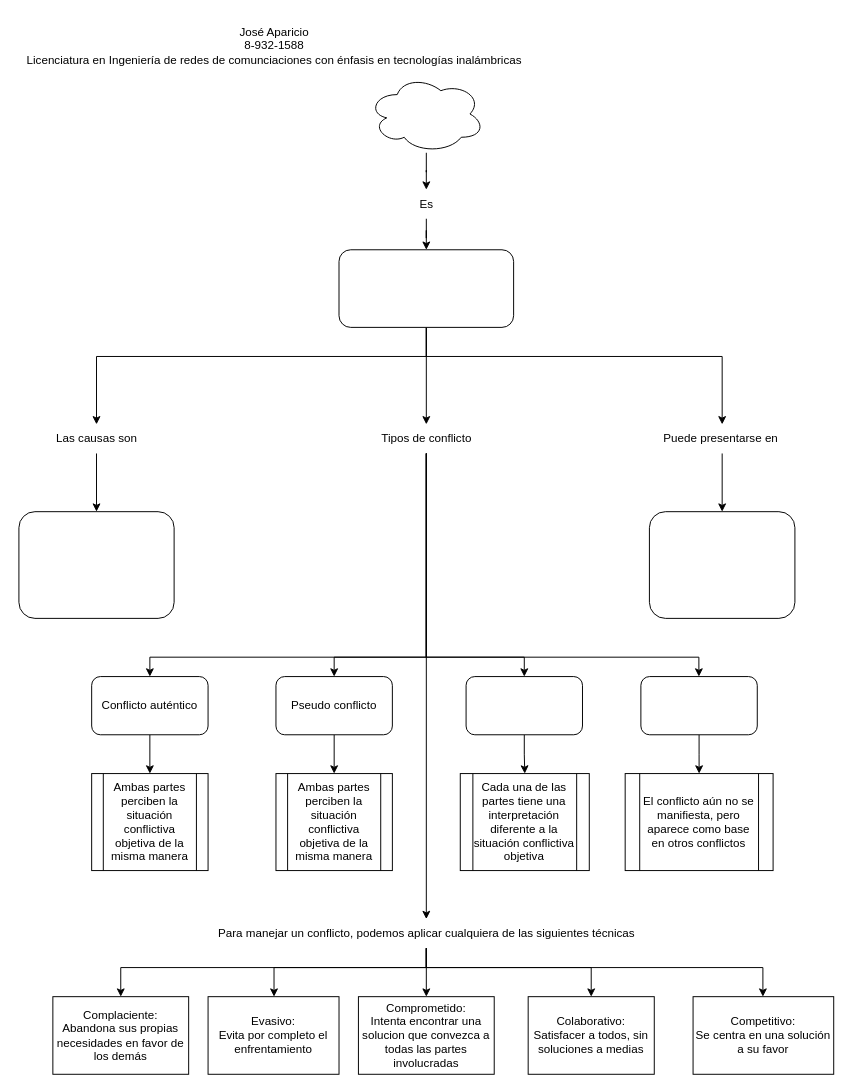
The diagram is 851 pixels wide and 1091 high, and some of its shapes have lost their labels. Here are the shapes that lost their labels. From the top down, the centre of each, then its label:
At (426,113): "El Conflicto".
At (426,288): "Cuando dos o más personas con intereses diferentes entran en confrontación".
At (96,564): "Factores culturales Factores sociales Factores de comportamiento".
At (721,564): "Grupos sociales Individuos".
At (523,705): "Conflicto de atribución errónea".
At (698,705): "Conflicto latente".
